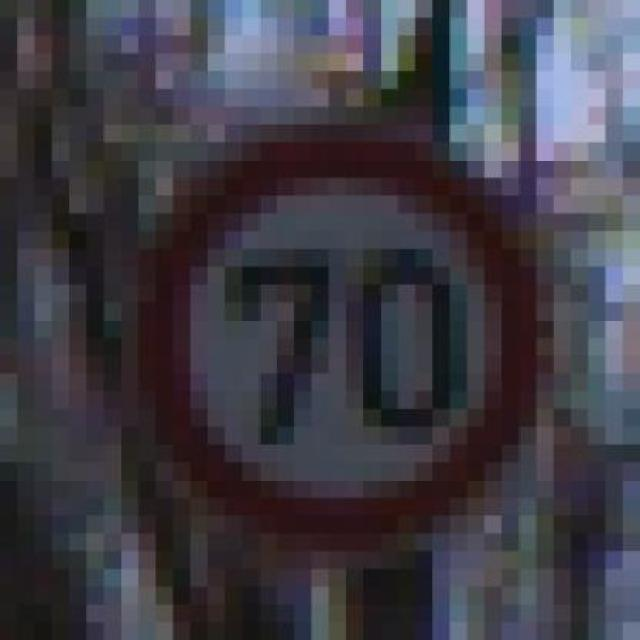forb_speed_over_70: (144, 134, 544, 538)
